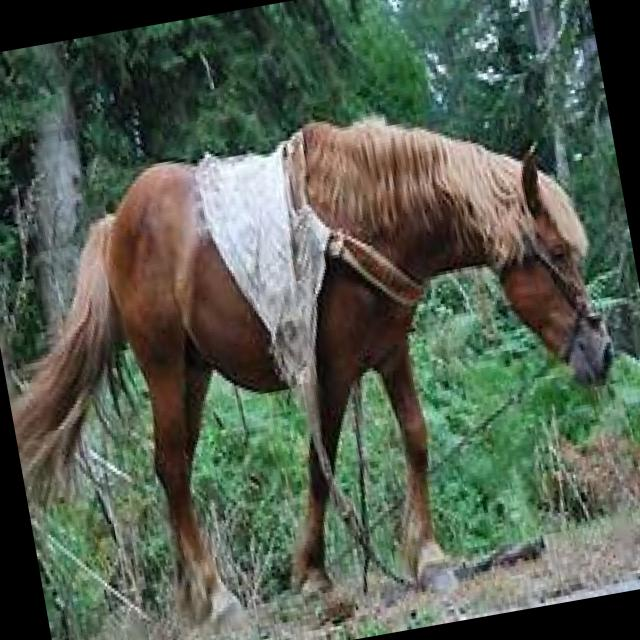animal: (0, 74, 640, 640)
